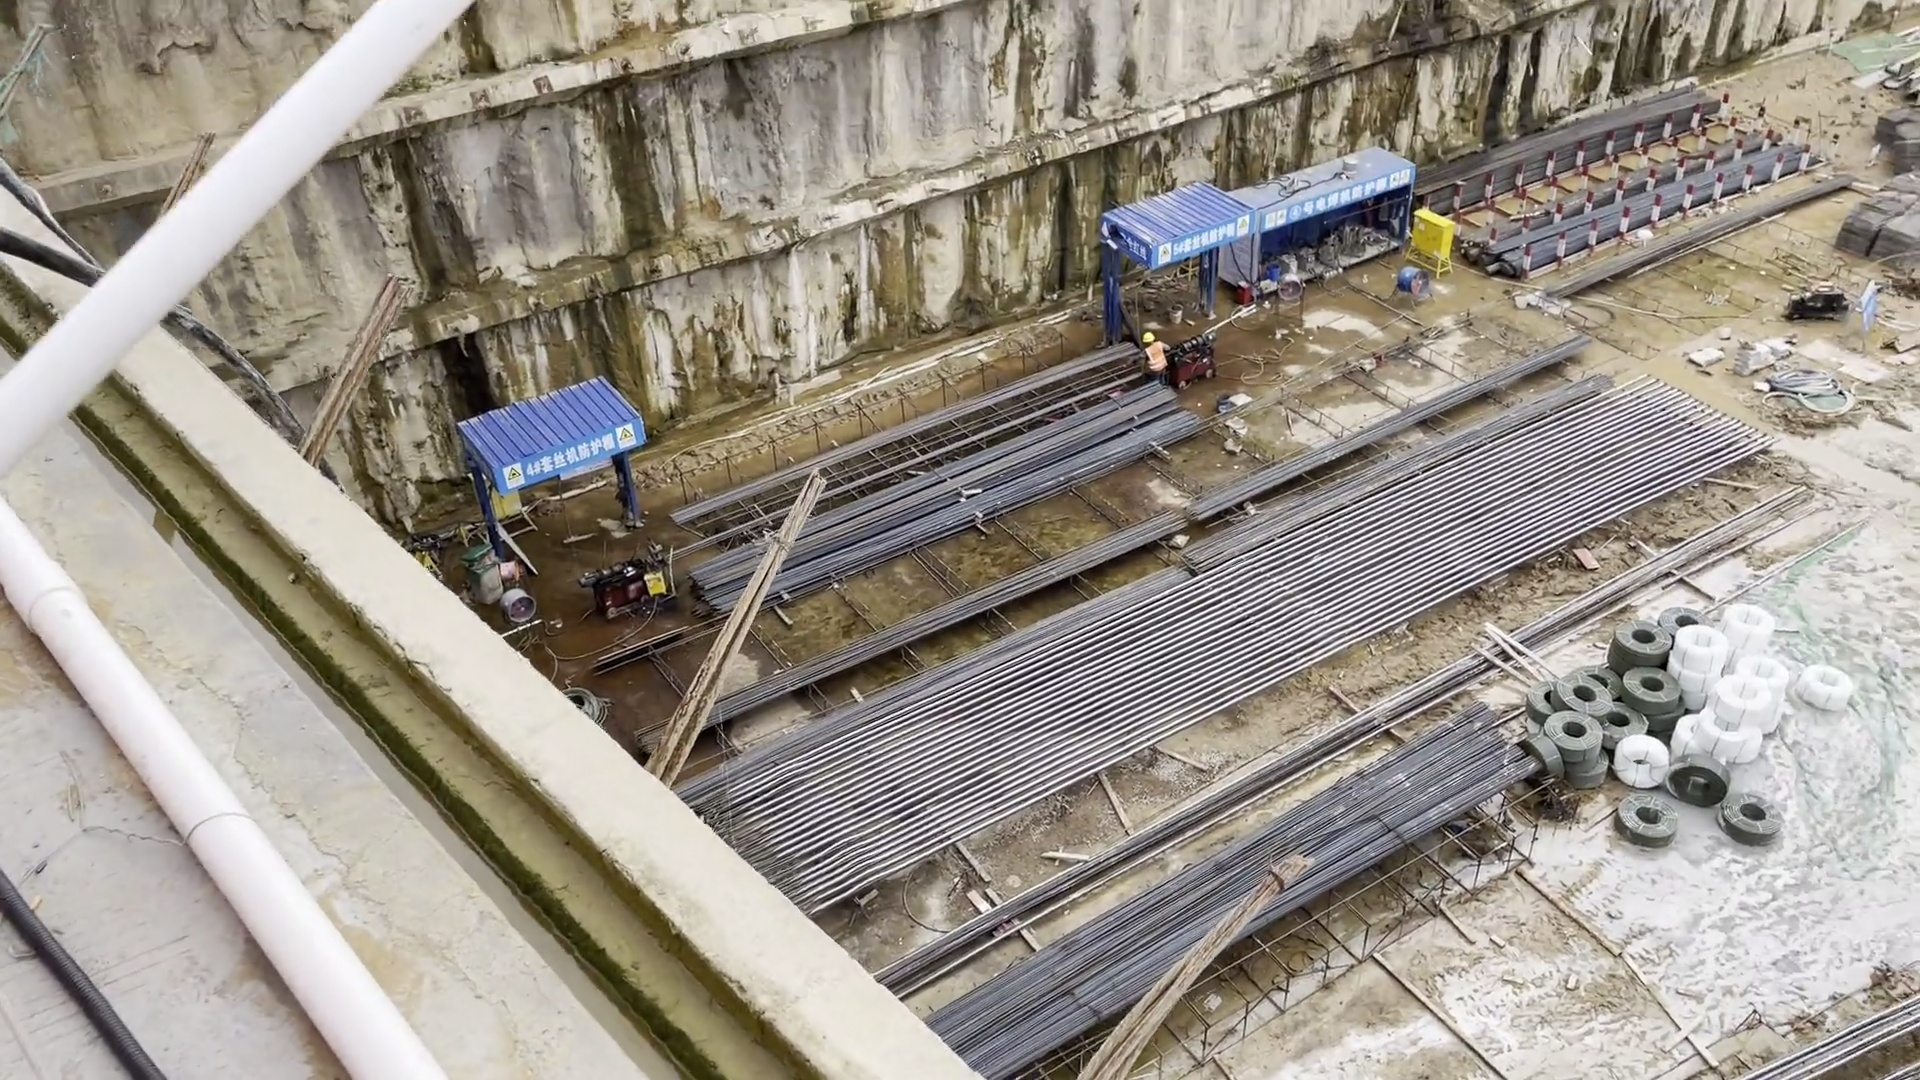cutter: (1250, 231, 1381, 287)
ebox: (1412, 207, 1456, 279)
helmet: (1142, 333, 1154, 342)
person: (1140, 332, 1169, 380)
rebar: (935, 700, 1559, 1074), (661, 334, 1210, 602), (1407, 82, 1844, 319)
slogan: (501, 420, 642, 495), (1260, 165, 1414, 234), (1153, 212, 1254, 270)
vest: (1143, 343, 1166, 368)
